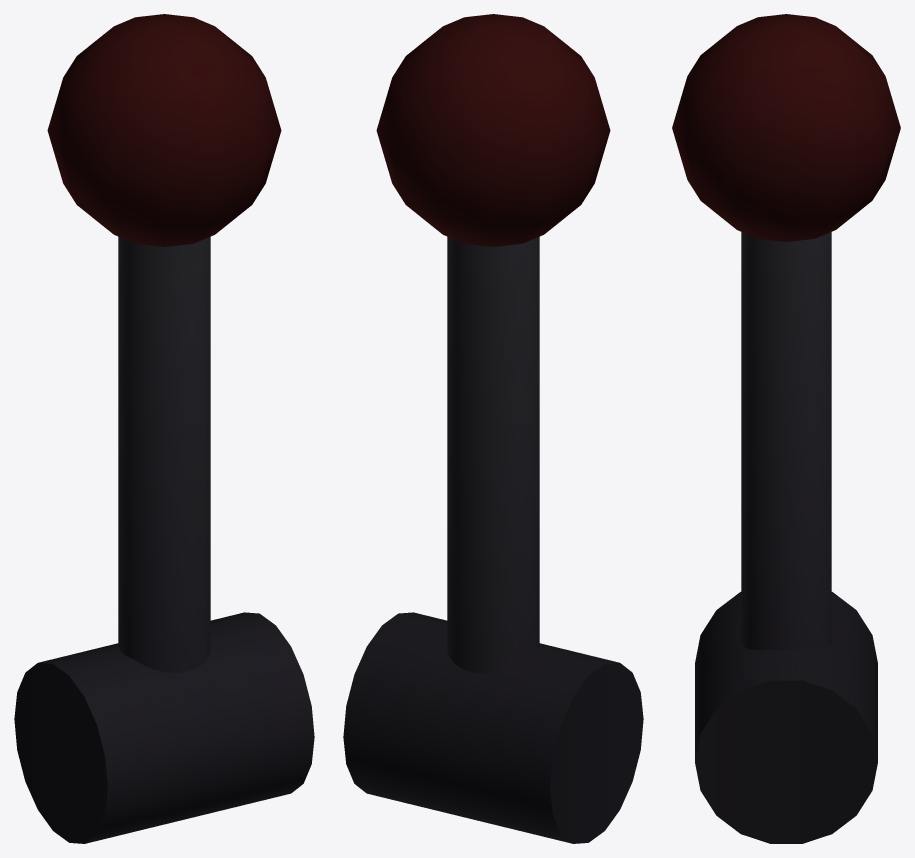
The model's file is lever_arm_dark.glb.
3 views of the same model, side by side, from view 1: azimuth 30°, elevation 25°; view 2: azimuth 150°, elevation 25°; view 3: azimuth 270°, elevation 25° (orthographic). The views are drawn at different scales.
Visible parts, largest first — view 1: Cylinder002_Material #26_0; view 2: Cylinder002_Material #26_0; view 3: Cylinder002_Material #26_0.
Part boxes in pixels (box(x1,y1,x2,y2)): Cylinder002_Material #26_0: box(14, 14, 314, 843); Cylinder002_Material #26_0: box(343, 14, 643, 843); Cylinder002_Material #26_0: box(672, 14, 900, 843).
Size of the model in its own units: 0.255 by 0.9282 by 0.25.
Materials: 1 (1 with a texture image).
